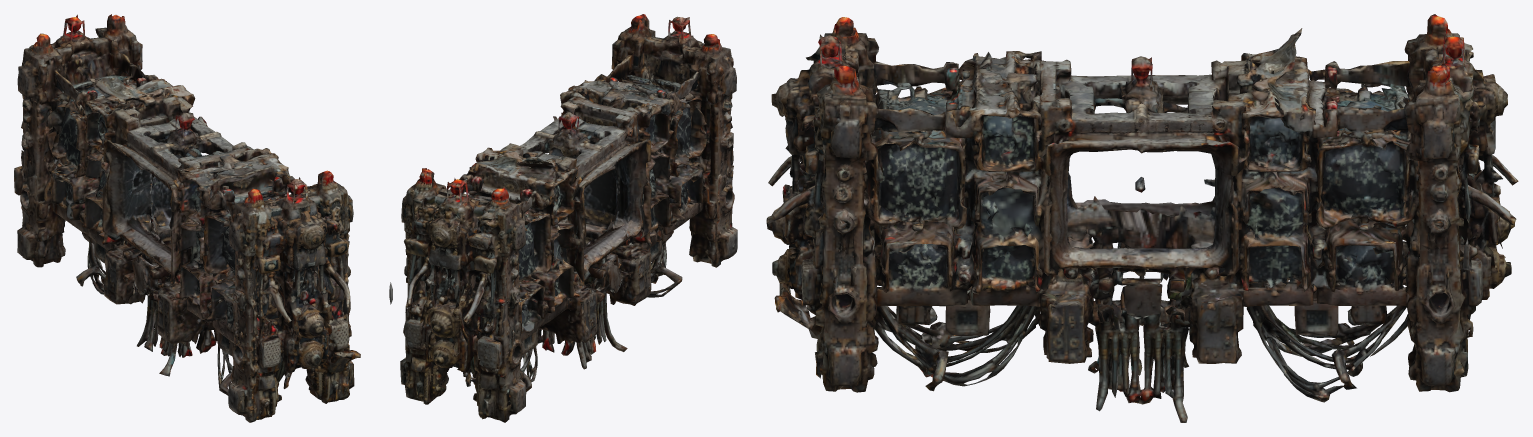
File: BK_BossCore_Wrecked.fbx
3 views of the same model, side by side, from view 1: azimuth 30°, elevation 25°; view 2: azimuth 150°, elevation 25°; view 3: azimuth 270°, elevation 25° (orthographic). The views are drawn at different scales.
Visible parts, largest first — view 1: texture_mapping; view 2: texture_mapping; view 3: texture_mapping.
Boxes of the visible parts, <box> form: texture_mapping: <box>14,14,360,422</box>; texture_mapping: <box>389,14,737,422</box>; texture_mapping: <box>766,14,1518,422</box>.
Size of the model in its own units: 0.2566 by 0.9734 by 0.5175.
1 material, 1 textured.
